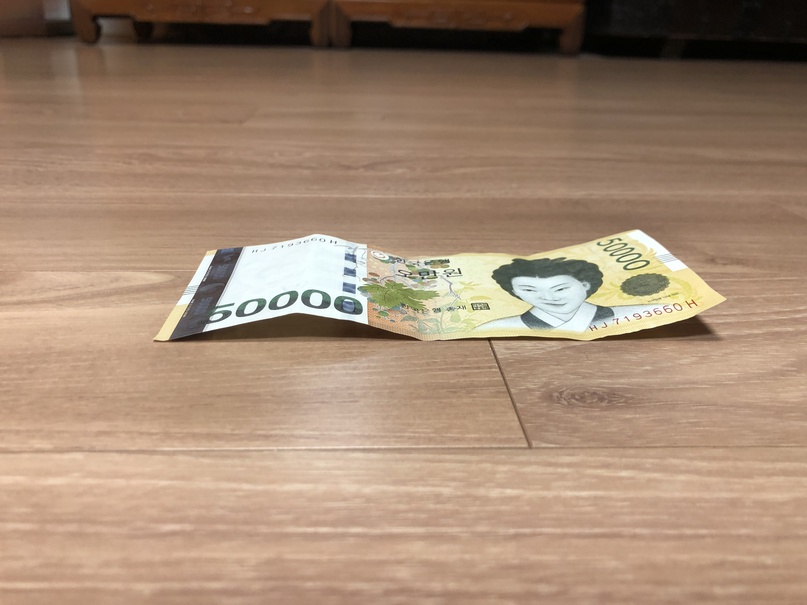50000won: (154, 230, 727, 342)
